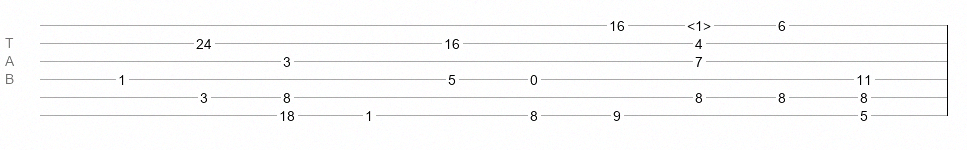0: (530, 72, 538, 82)
1: (118, 72, 126, 82), (365, 108, 373, 118)
11: (856, 72, 872, 82)
16: (444, 36, 460, 46), (609, 18, 625, 28)
18: (279, 108, 295, 118)
24: (196, 36, 212, 46)
3: (200, 90, 208, 100), (283, 54, 291, 64)
4: (695, 36, 703, 46)
5: (448, 72, 456, 82), (860, 108, 868, 118)
6: (778, 18, 786, 28)
7: (695, 54, 703, 64)
8: (283, 90, 291, 100), (530, 108, 538, 118), (695, 90, 703, 100), (778, 90, 786, 100), (860, 90, 868, 100)
9: (613, 108, 621, 118)
harmonic: (687, 18, 711, 28)
